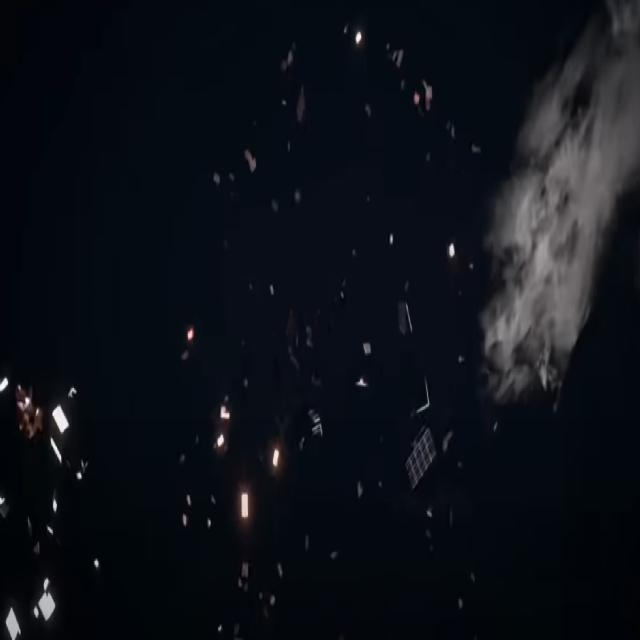large_debris: (403, 424, 438, 499), (11, 374, 45, 447), (49, 399, 70, 444), (396, 294, 413, 341), (306, 402, 323, 443), (240, 484, 250, 526), (361, 338, 374, 362), (271, 442, 281, 472), (33, 537, 41, 559)
